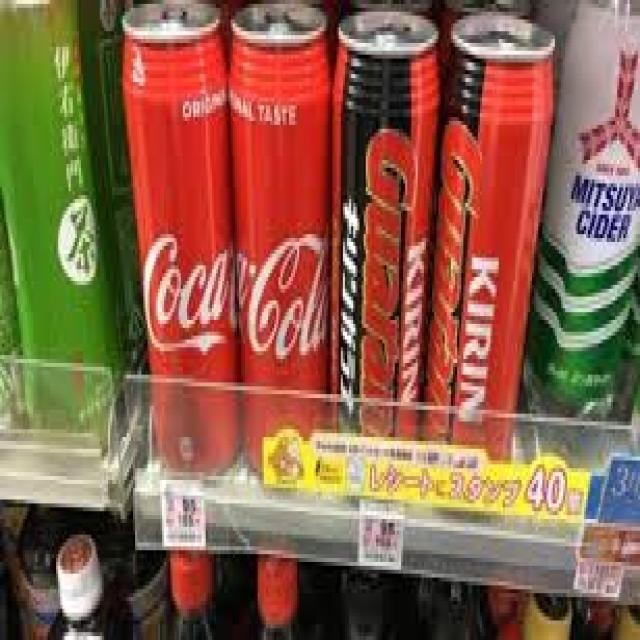Coca-Cola: (116, 0, 239, 484), (228, 3, 334, 491)
